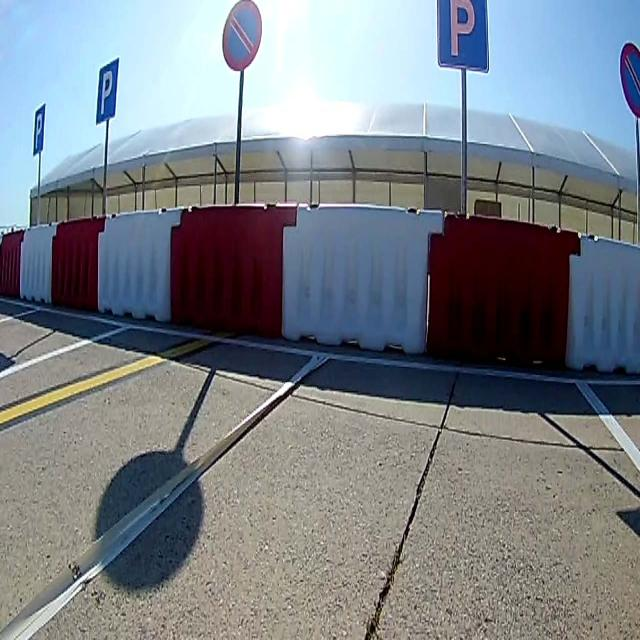park: (437, 1, 489, 75), (96, 61, 116, 120), (34, 106, 44, 154)
parkyasak: (223, 1, 262, 67)
